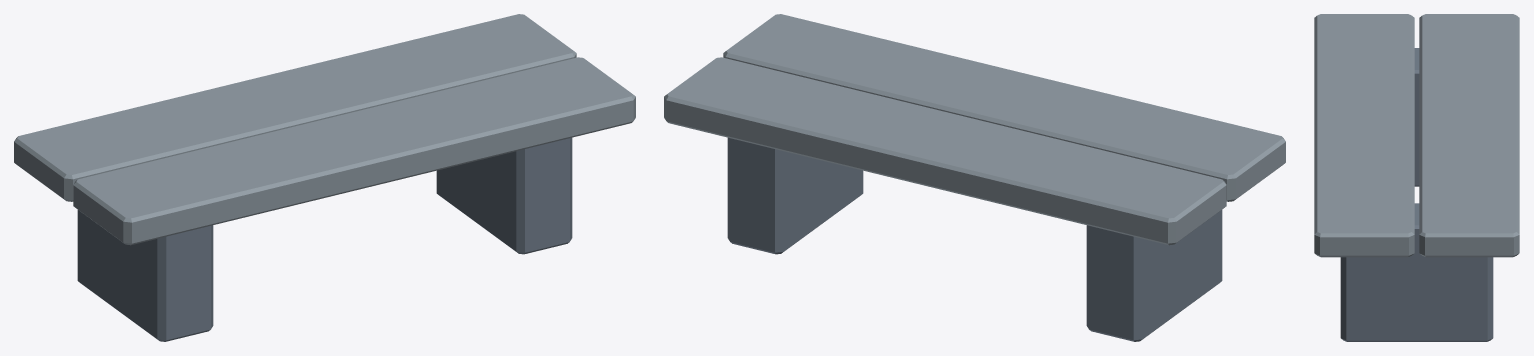
Rendered from cloister-bench.glb.
3 views of the same model, side by side, from view 1: azimuth 30°, elevation 25°; view 2: azimuth 150°, elevation 25°; view 3: azimuth 270°, elevation 25° (orthographic). The views are drawn at different scales.
Visible parts, largest first — view 1: cloister-bench__body; view 2: cloister-bench__body; view 3: cloister-bench__body.
Boxes of the visible parts, bbox=[...] form: cloister-bench__body: bbox=[14, 14, 635, 341]; cloister-bench__body: bbox=[664, 14, 1285, 341]; cloister-bench__body: bbox=[1314, 14, 1519, 341].
Bounding box in the file's own units: 1.1 × 0.3 × 0.43.
